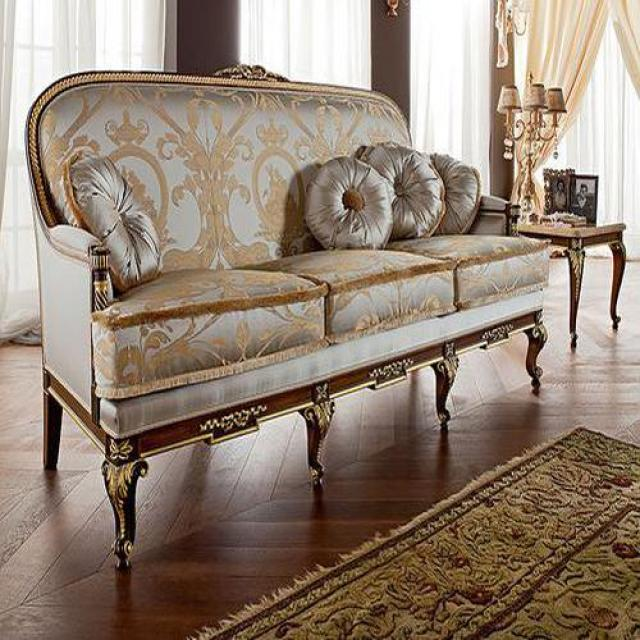sofa: (26, 67, 549, 580)
